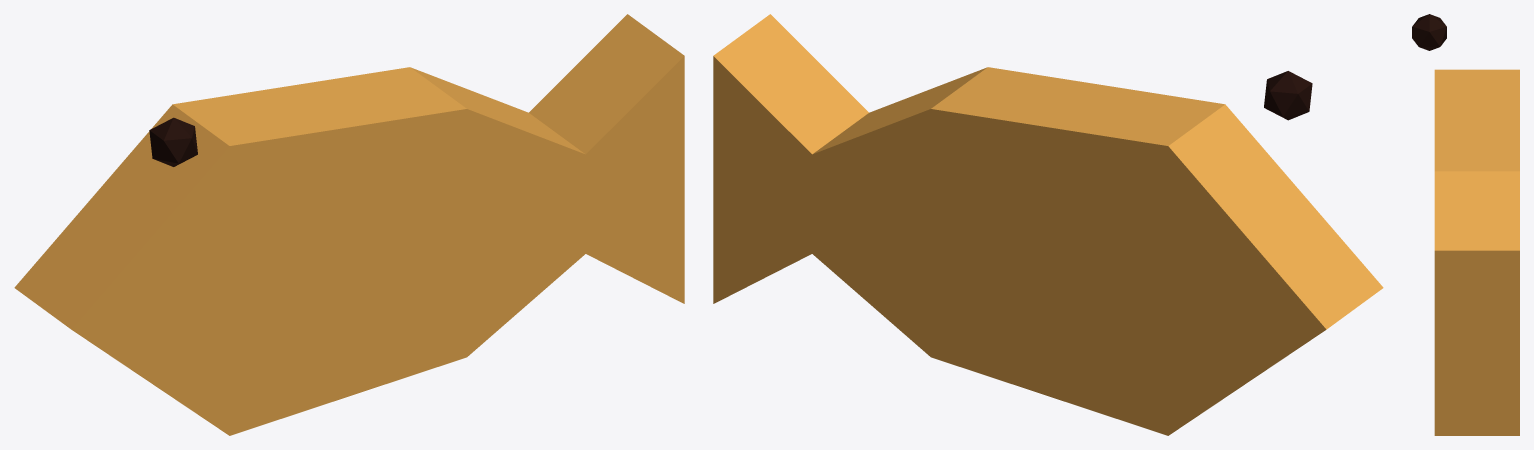
File: taiyaki.glb
The picture shows the model from 3 angles, left to right: view 1: azimuth 30°, elevation 25°; view 2: azimuth 150°, elevation 25°; view 3: azimuth 270°, elevation 25°; orthographic projection. The views are drawn at different scales.
Visible parts, largest first — view 1: taiyaki; view 2: taiyaki; view 3: taiyaki.
Part boxes in pixels (x1=…): taiyaki: x1=14, y1=14, x2=684, y2=435; taiyaki: x1=713, y1=14, x2=1383, y2=435; taiyaki: x1=1412, y1=14, x2=1519, y2=435.
Size of the model in its own units: 0.155 by 0.081 by 0.0316.
